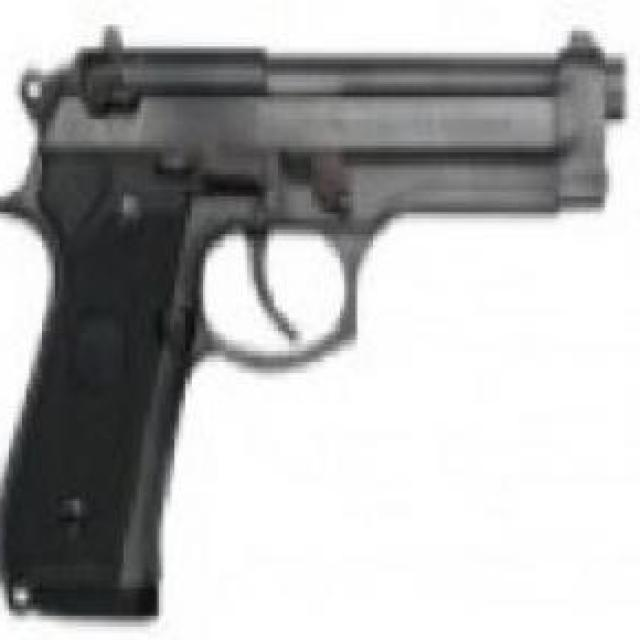pistol: (0, 26, 634, 620)
